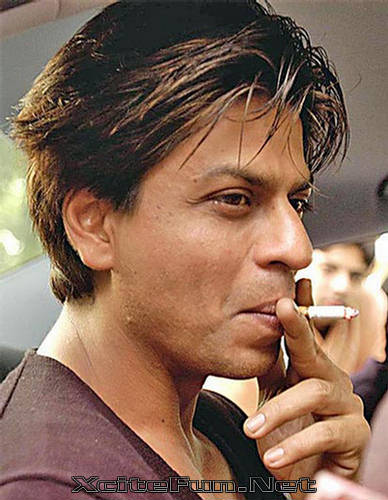cigarette: (290, 304, 362, 319)
